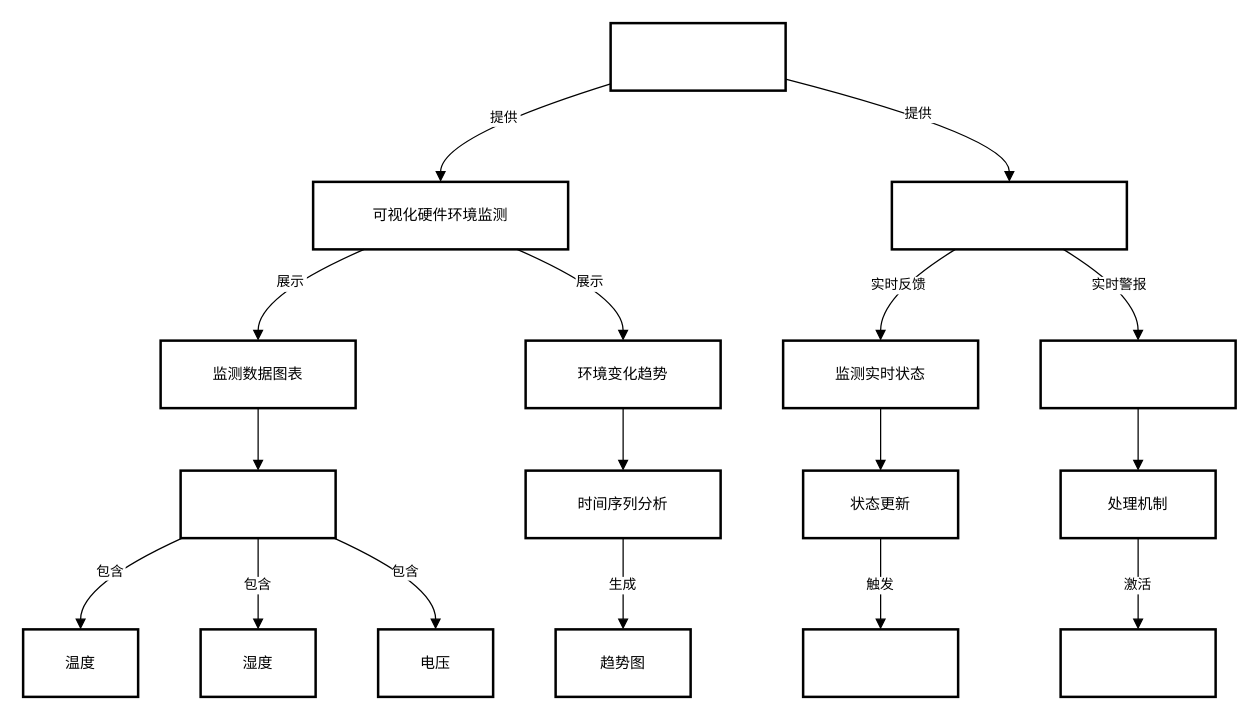
Some shapes in this 1258 by 719 pixel diagram are drawn without their labels. Each missing label, with the centre of its shape:
处理流程: [1137,663]
实时硬件环境监测: [1009,215]
异常情况预警: [1137,374]
数据类型: [257,504]
本监控中心: [697,56]
用户通知: [880,663]
